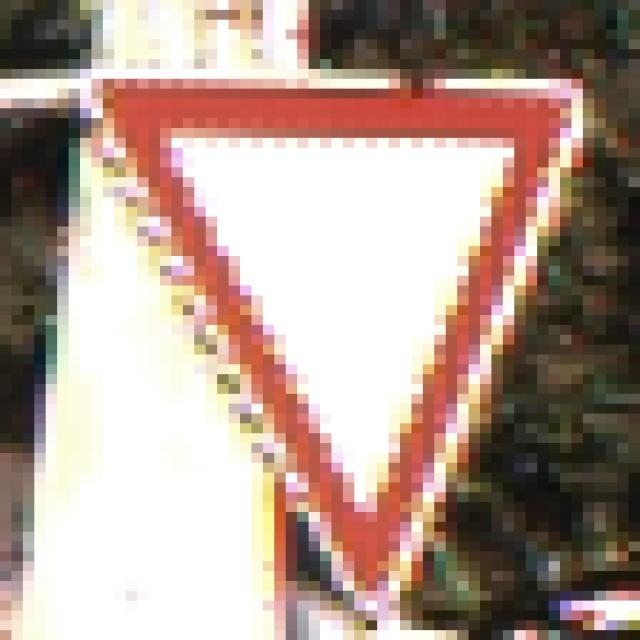Give Way: (69, 50, 584, 582)
